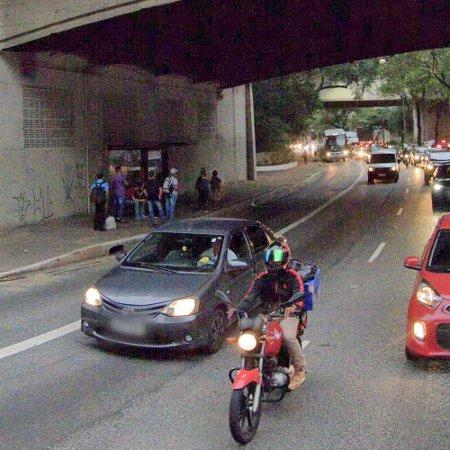motorcycles: (229, 303, 294, 445)
